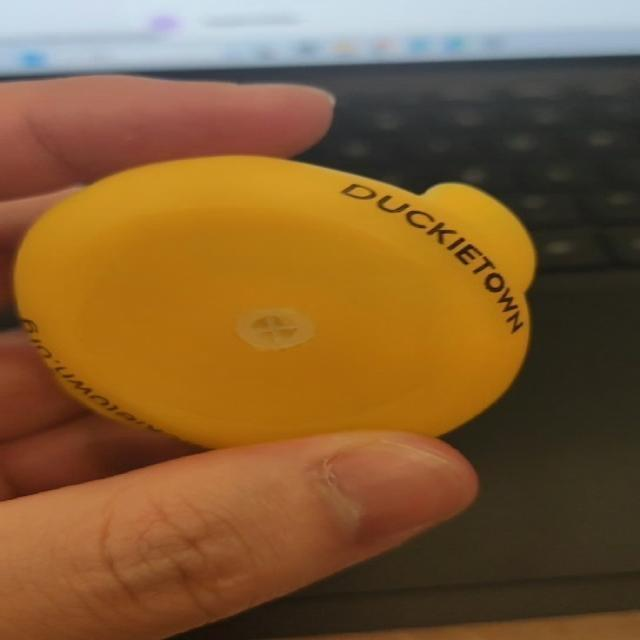rubber-duck: (13, 155, 534, 445)
